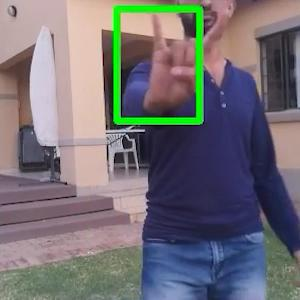takeoff-hand: (142, 1, 241, 114)
